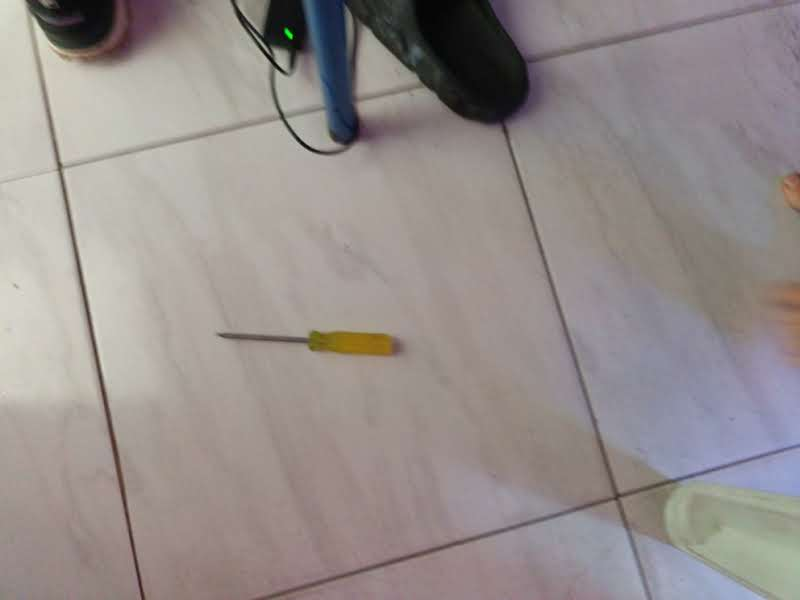Destornillador: (217, 330, 398, 355)
